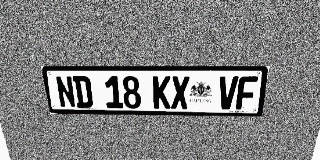1: (104, 76, 124, 108)
8: (122, 76, 141, 108)
D: (72, 76, 94, 108)
F: (236, 76, 258, 110)
K: (153, 76, 171, 109)
N: (55, 76, 77, 108)
V: (217, 76, 239, 109)
X: (171, 76, 190, 109)
